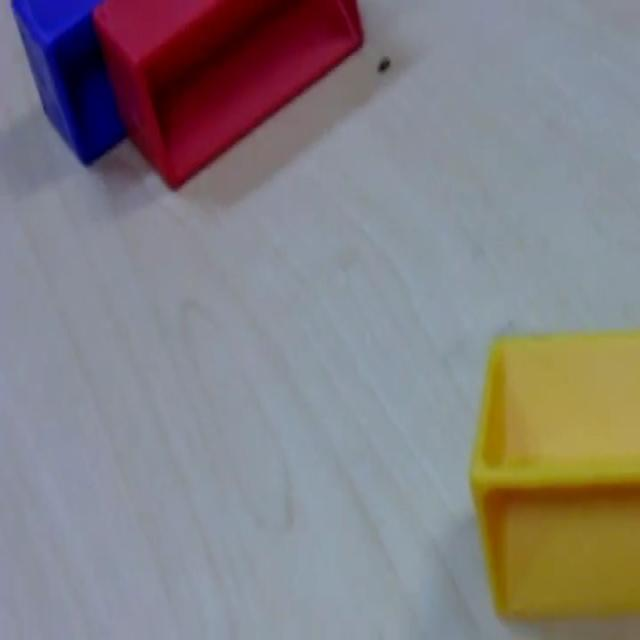red_block: (90, 0, 364, 191)
yellow_block: (468, 327, 639, 621)
